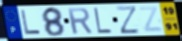8: (41, 6, 67, 38)
L: (20, 9, 42, 35), (93, 7, 113, 35)
R: (66, 7, 94, 35)
Z: (115, 5, 141, 35), (138, 6, 165, 33)
